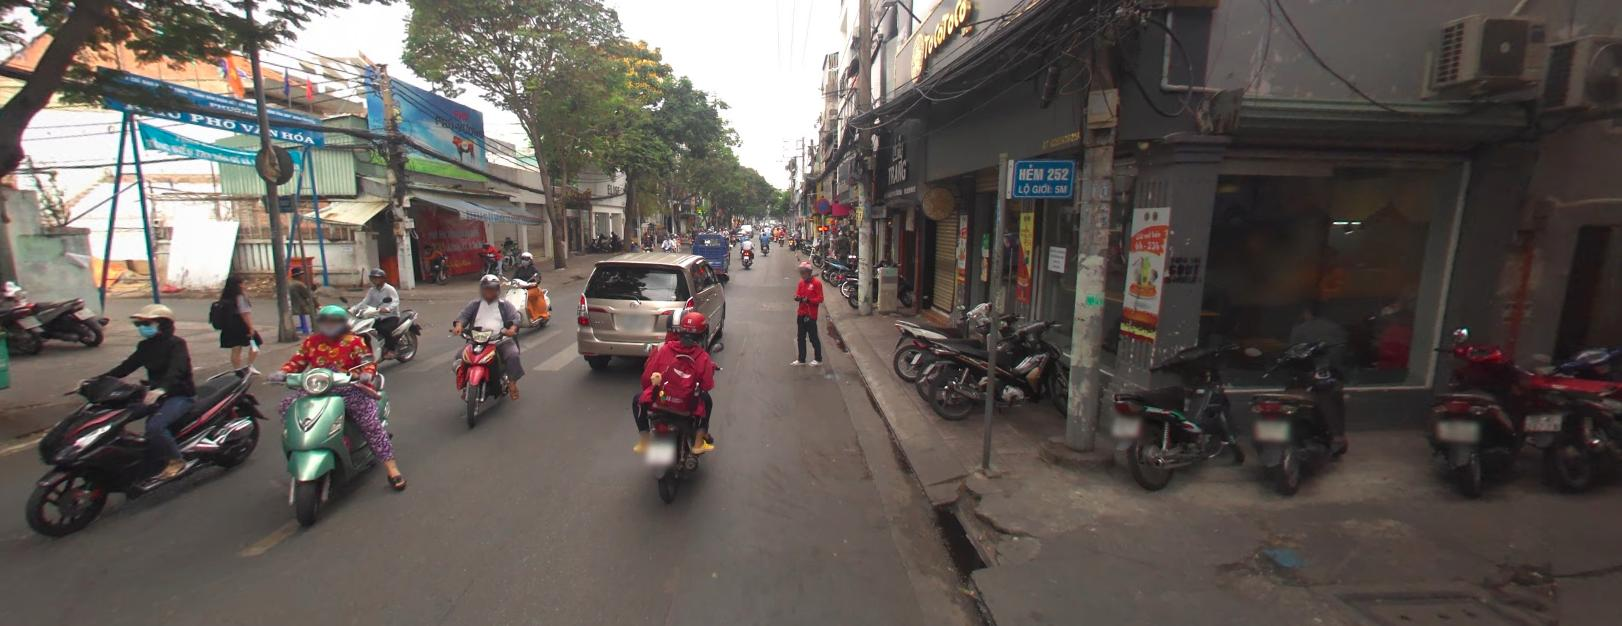Cam dung va do: (815, 196, 830, 212)
